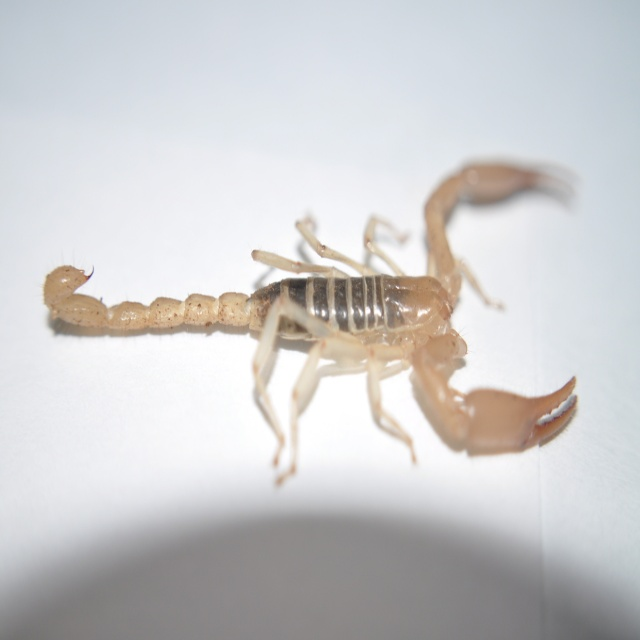Scorpion: (40, 157, 577, 473)
